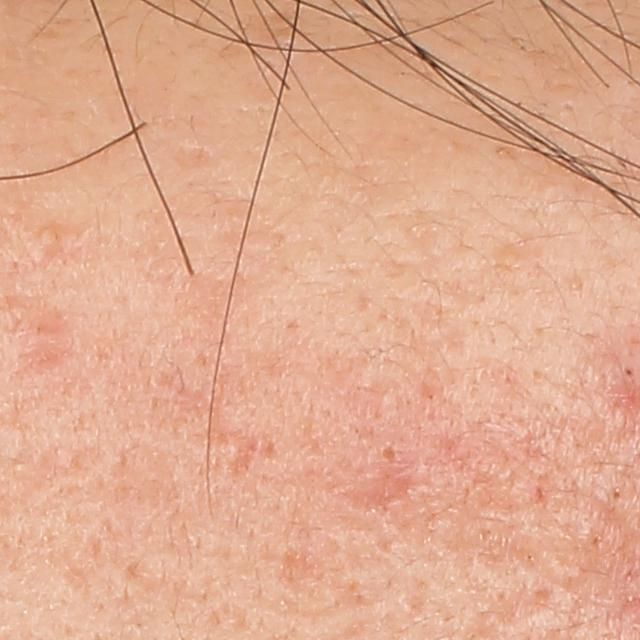comedo: (34, 224, 62, 255), (608, 484, 623, 500)
